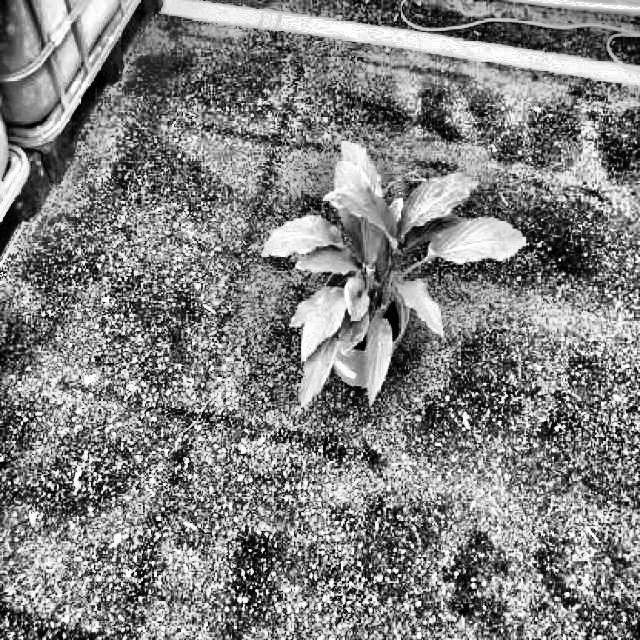plants: (262, 139, 527, 413)
